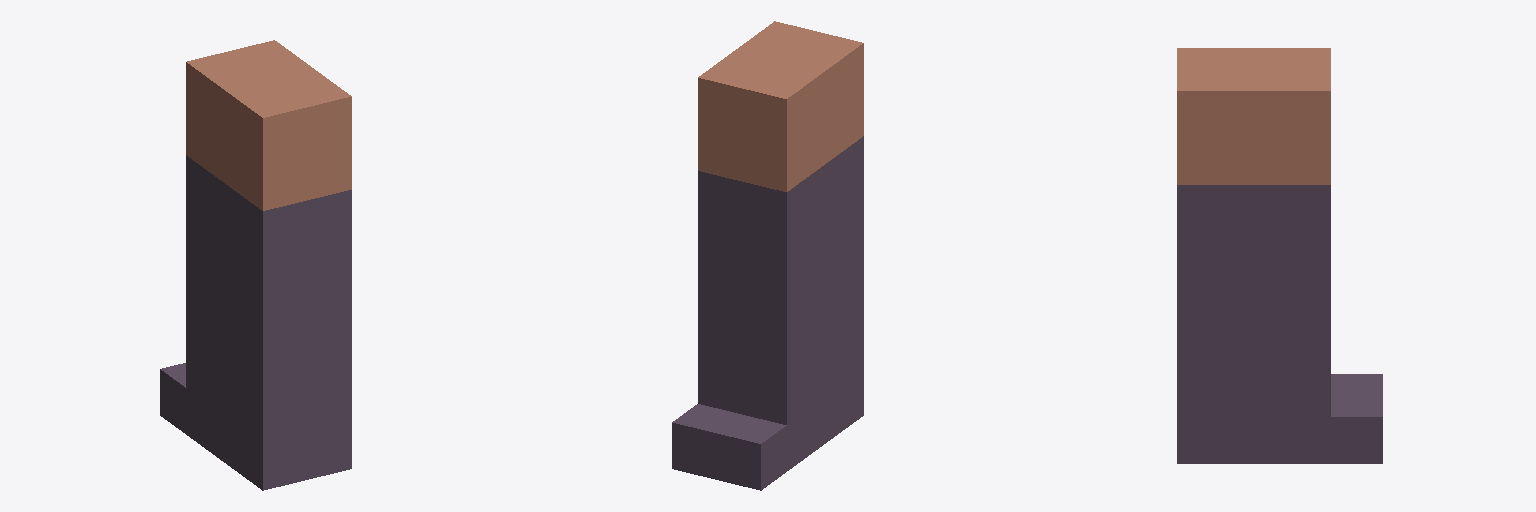
The picture shows the model from 3 angles: view 1: azimuth 30°, elevation 25°; view 2: azimuth 150°, elevation 25°; view 3: azimuth 270°, elevation 25°; orthographic projection.
Visible parts, largest first — view 1: object 1; view 2: object 1; view 3: object 1.
Part boxes in pixels (left/top/right/bottom): object 1: left=160, top=40, right=351, bottom=490; object 1: left=672, top=21, right=863, bottom=490; object 1: left=1177, top=48, right=1382, bottom=463.
Bounding box in the file's own units: 0.2 × 0.8 × 0.4.
1 materials, 1 textured.